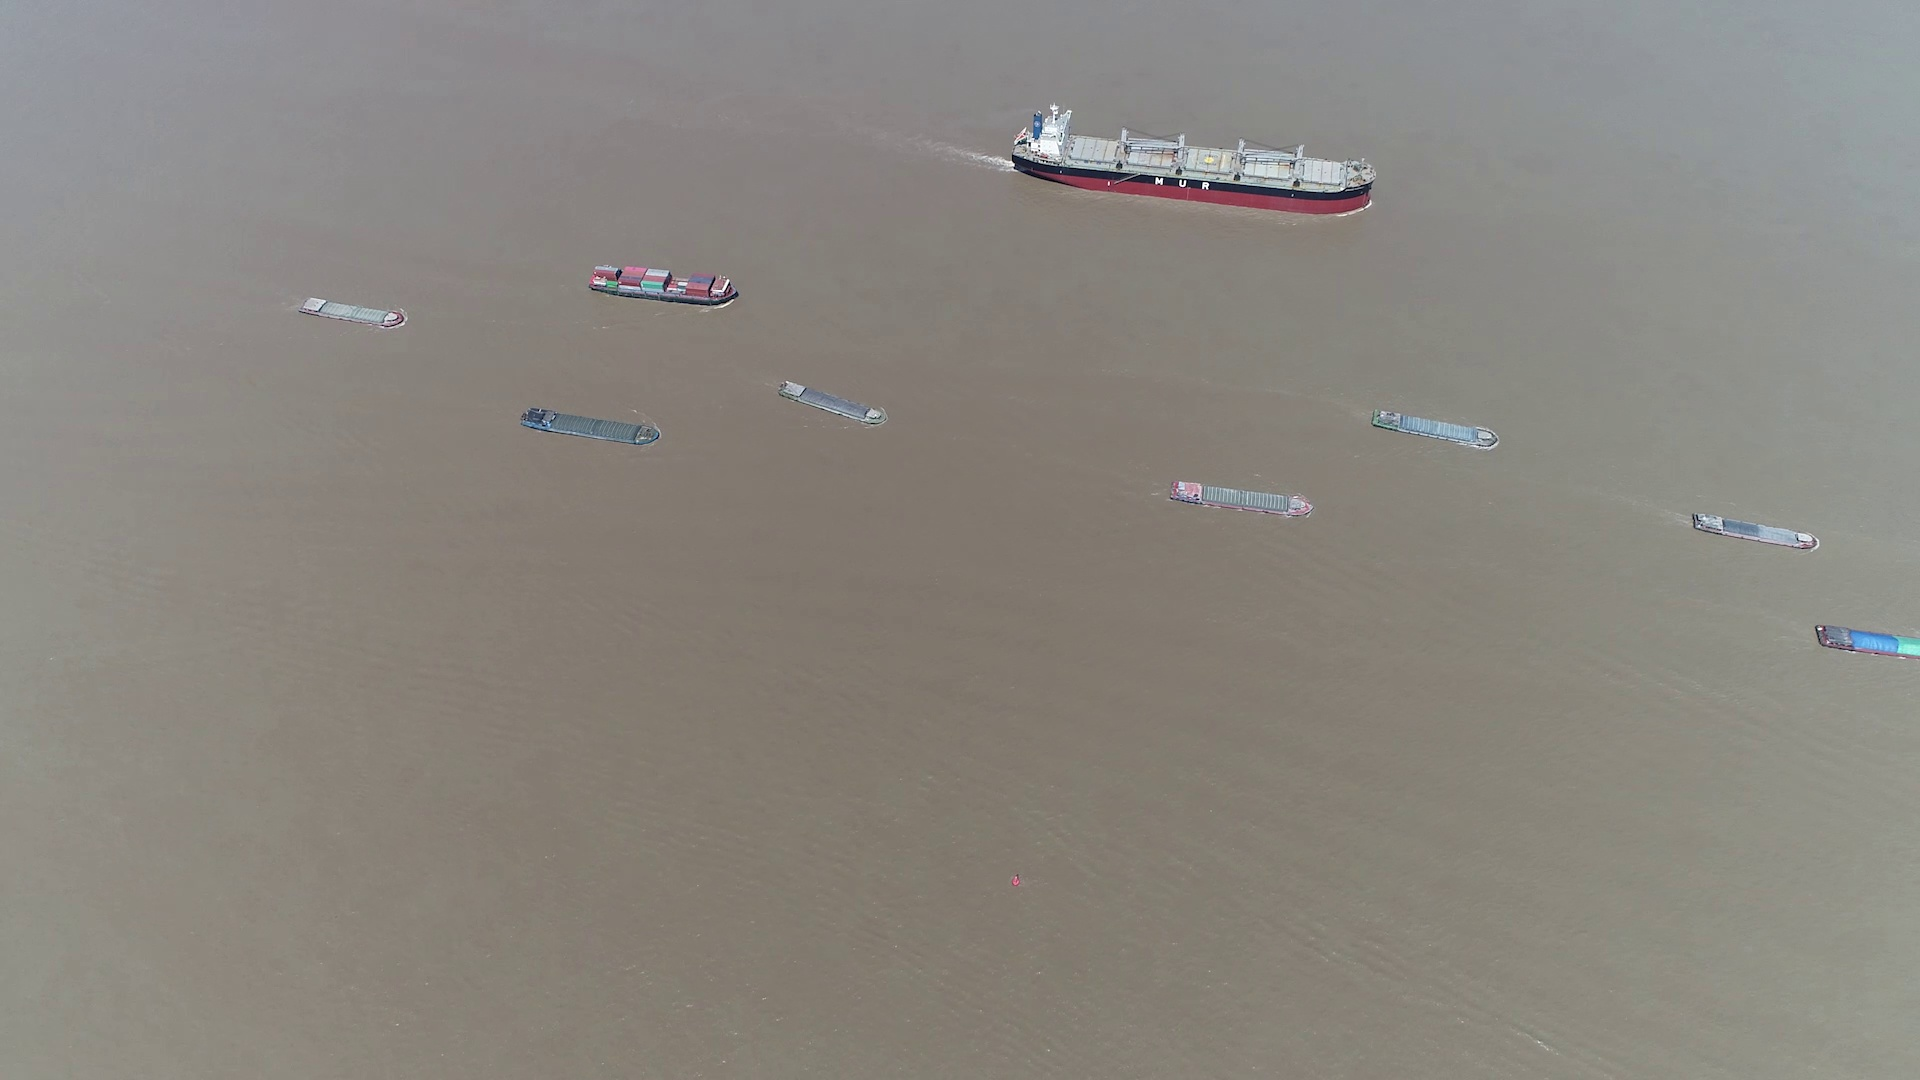ship: (1011, 107, 1371, 210), (589, 264, 740, 306), (1166, 477, 1309, 517), (522, 407, 663, 447), (778, 380, 889, 427), (1689, 510, 1817, 551), (1371, 407, 1497, 448), (1815, 622, 1920, 661), (301, 297, 407, 330)
